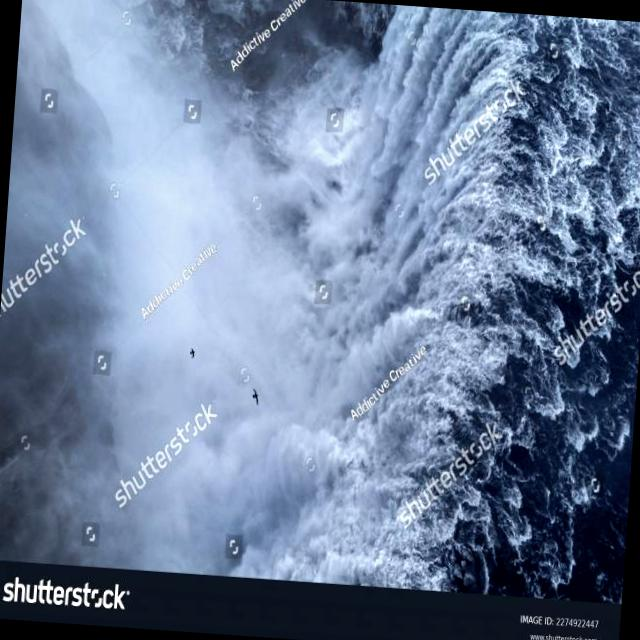bird: (244, 380, 264, 410), (184, 339, 202, 368)
